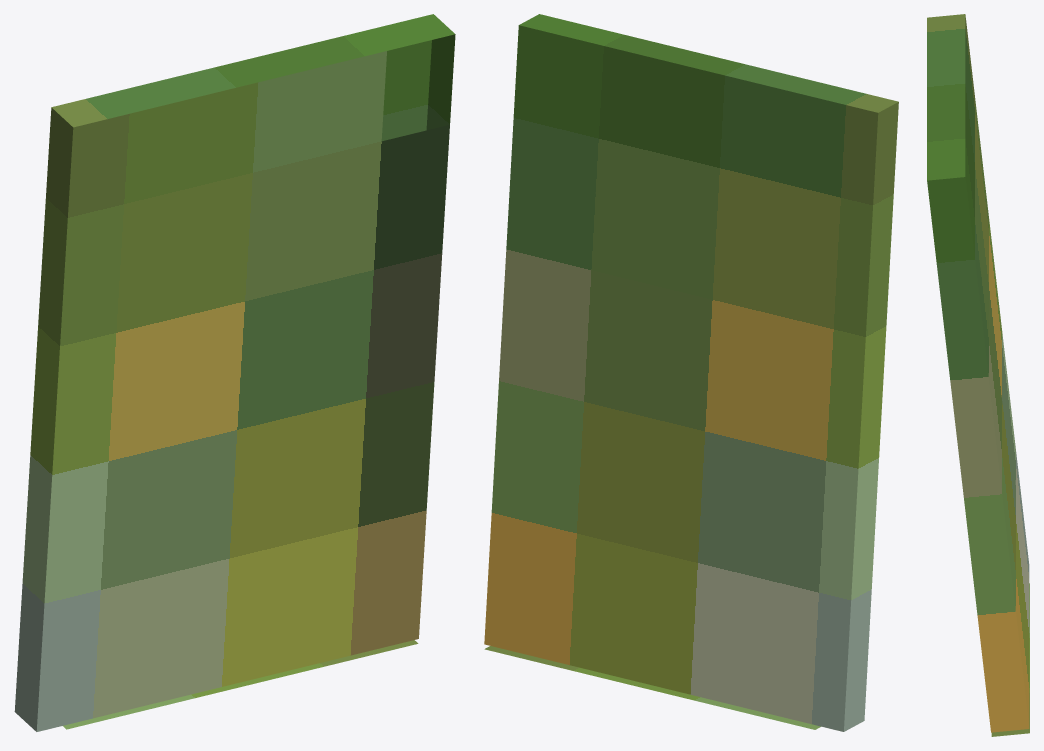
The model's file is sl_wildflower_cape.glb.
3 renders of one model, left to right at view 1: azimuth 30°, elevation 25°; view 2: azimuth 150°, elevation 25°; view 3: azimuth 270°, elevation 25°, orthographic. The views are drawn at different scales.
Visible parts, largest first — view 1: bb_wildflower_cape; view 2: bb_wildflower_cape; view 3: bb_wildflower_cape.
Part boxes in pixels (<box>): bb_wildflower_cape: <box>14,14,455,731</box>; bb_wildflower_cape: <box>484,14,898,731</box>; bb_wildflower_cape: <box>927,14,1029,736</box>.
Size of the model in its own units: 0.625 by 1 by 0.1667.
Materials: 1 (1 with a texture image).
